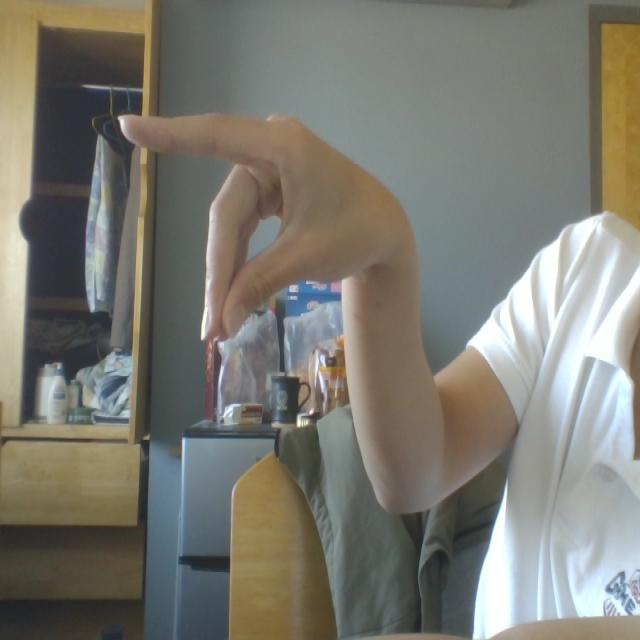P: (87, 95, 449, 354)
